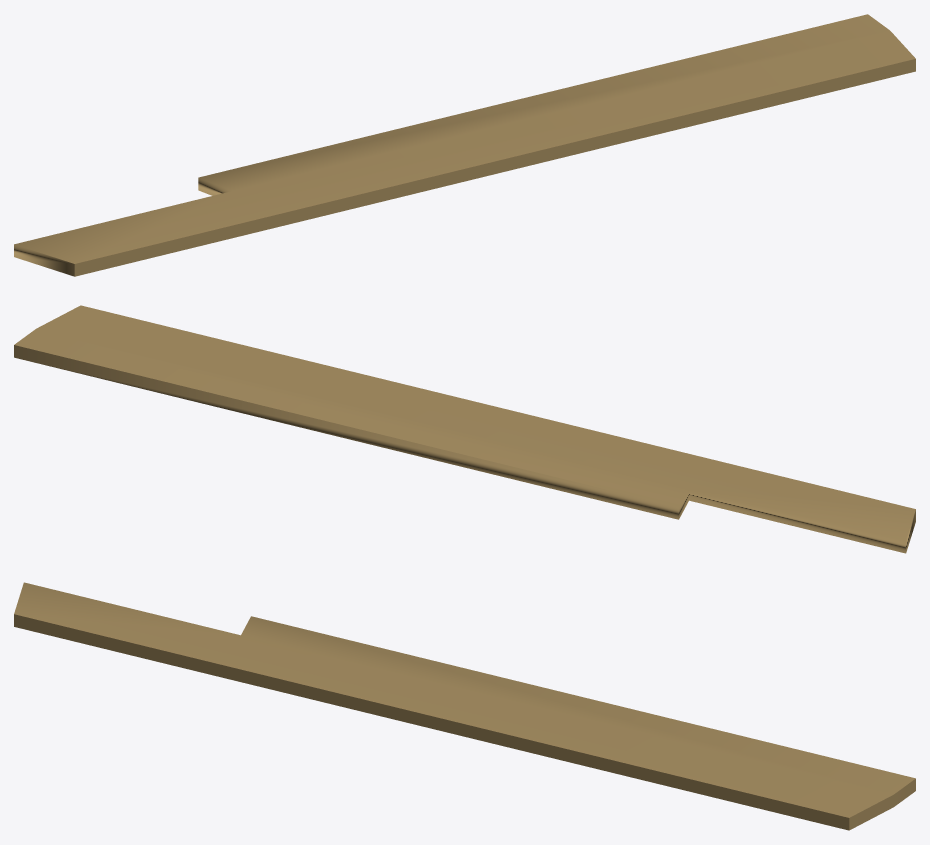
Rendered from Board_03.fbx.
The picture shows the model from 3 angles, top to bottom: view 1: azimuth 30°, elevation 25°; view 2: azimuth 150°, elevation 25°; view 3: azimuth 330°, elevation 25°; orthographic projection.
Parts seen in each view (by area): view 1: Board_03; view 2: Board_03; view 3: Board_03.
Part boxes in pixels (x1,y1,x2,y2): Board_03: (14,14,915,276); Board_03: (14,305,915,553); Board_03: (14,582,915,830).
Bounding box in the file's own units: 146 × 2.03 × 16.64.
